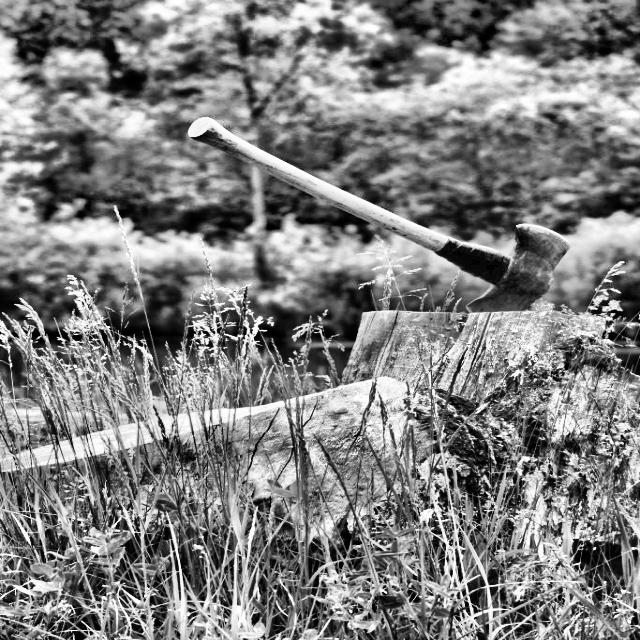kapak: (173, 108, 586, 318)
